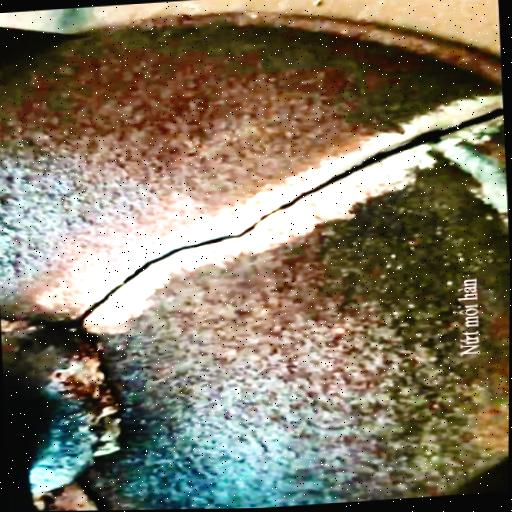crack: (70, 108, 504, 327)
